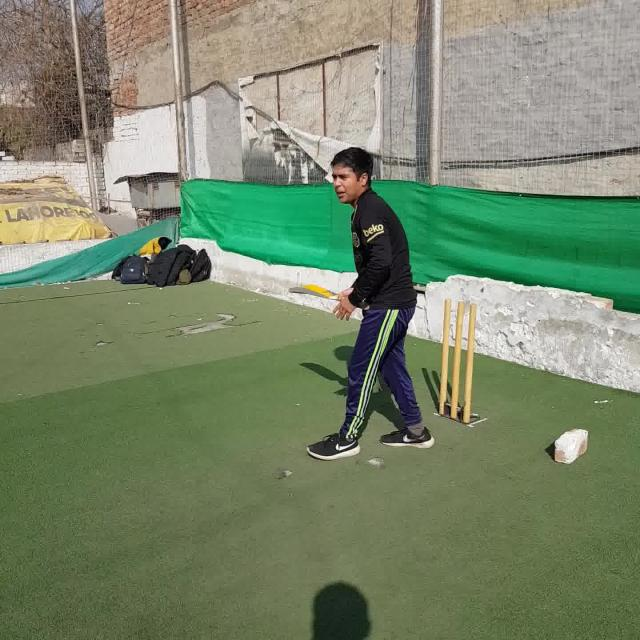bat: (290, 283, 369, 310)
